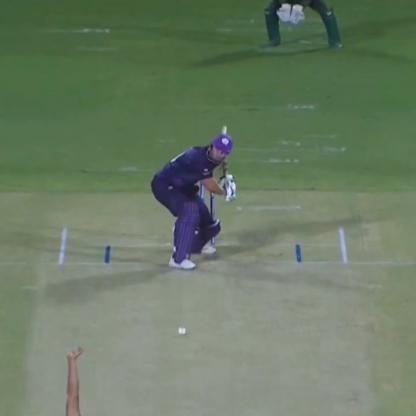ball: (172, 320, 190, 340)
bat: (212, 122, 242, 195)
pitch: (20, 231, 388, 416)
